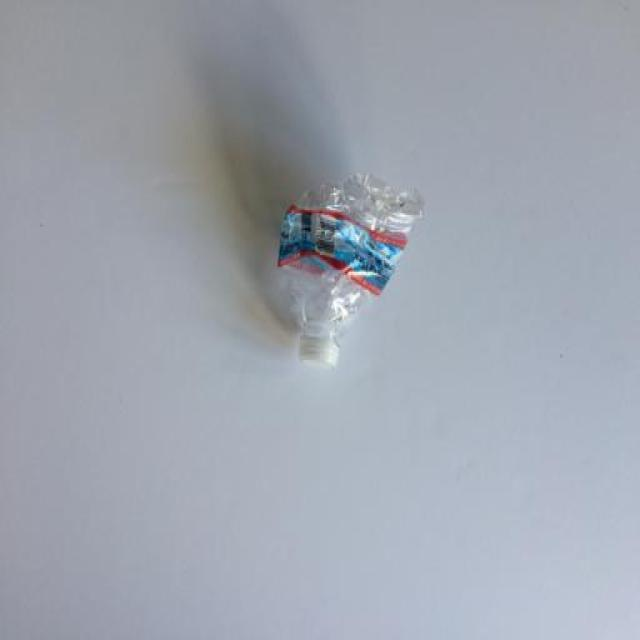Plastic: (275, 172, 424, 368)
